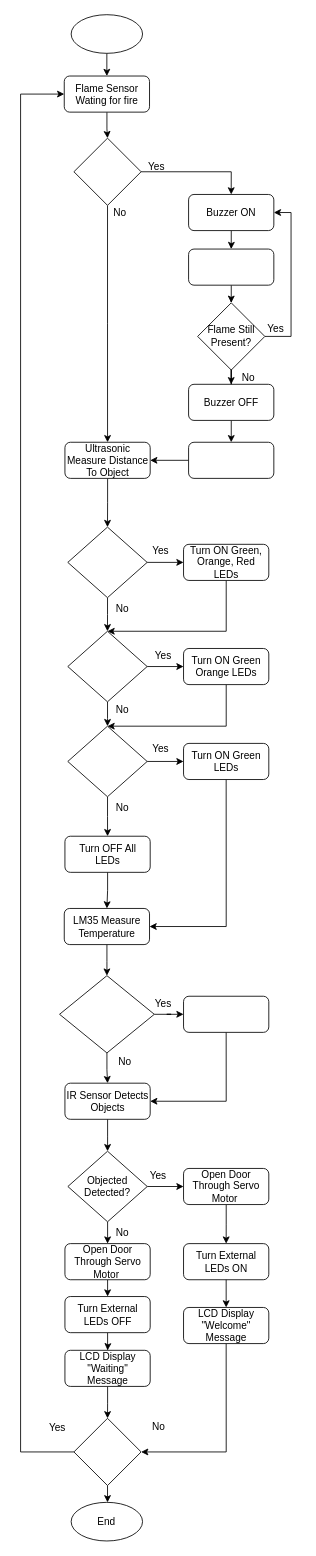
This 316x1556 diagram has some shape labels left out. Each missing label, with the centre of its shape:
"Distance less than 10 cm?" goes at point 107,666.
"Distance less than 15 cm?" goes at point 107,761.
"Distance less than 5 cm?" goes at point 107,562.
"Flame Detected?" goes at point 107,171.
"Repeat?" goes at point 107,1452.
"Start" goes at point 106,33.
"Temperature more than 30 ° C?" goes at point 106,1014.
"Turn on DC Fan" goes at point 226,1013.
"Warning Red LED OFF" goes at point 231,459.
"Warning Red LED ON" goes at point 231,266.
